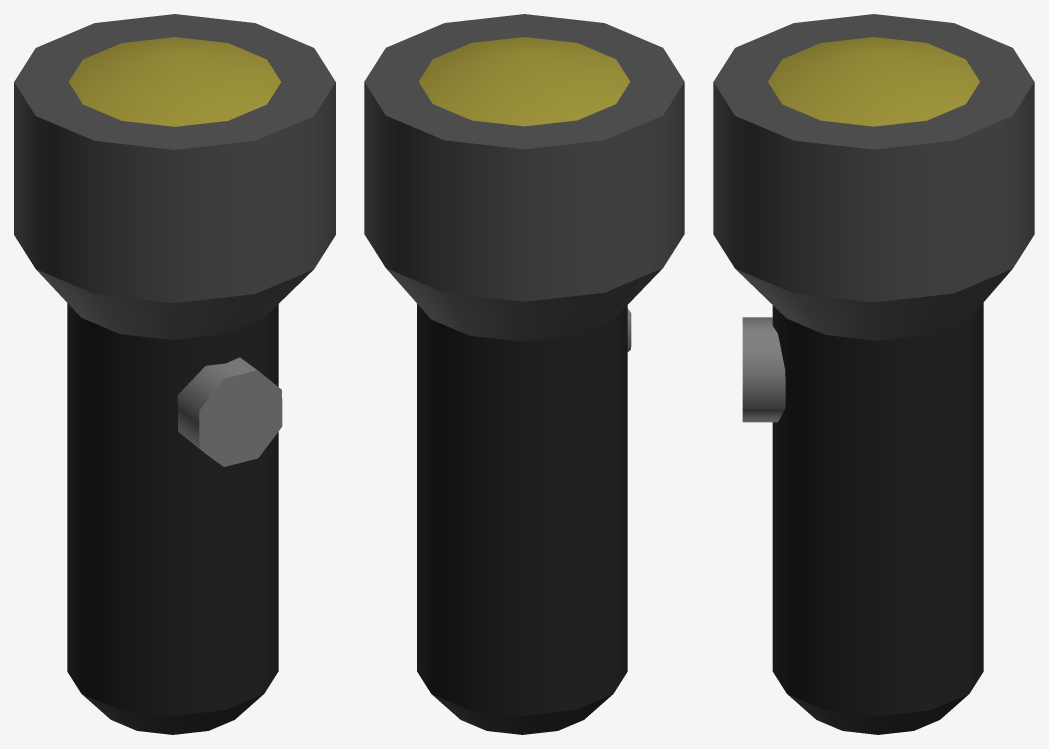
File: gadget_flashlight_01.fbx
The picture shows the model from 3 angles, left to right: view 1: azimuth 30°, elevation 25°; view 2: azimuth 150°, elevation 25°; view 3: azimuth 270°, elevation 25°; orthographic projection.
Visible parts, largest first — view 1: gadget_flashlight_01; view 2: gadget_flashlight_01; view 3: gadget_flashlight_01.
Part boxes in pixels (x1,y1,x2,y2): gadget_flashlight_01: (14, 14, 335, 734); gadget_flashlight_01: (364, 14, 684, 734); gadget_flashlight_01: (713, 14, 1034, 734).
Size of the model in its own units: 21.8 by 48.79 by 21.8.
